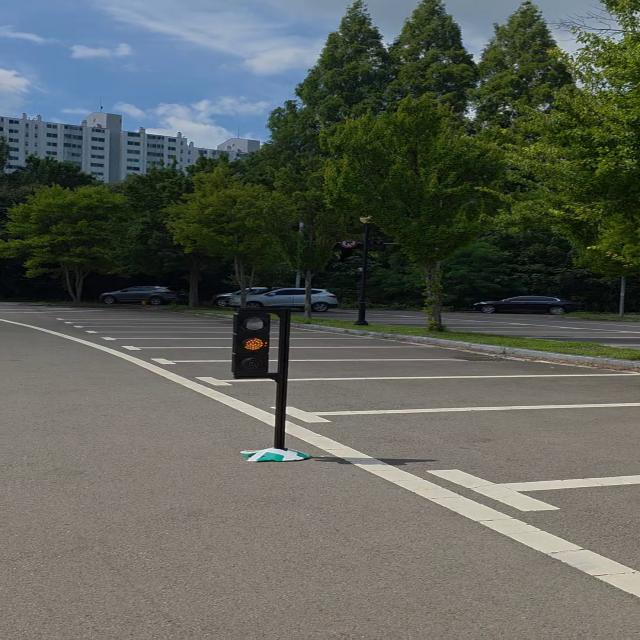yellow: (225, 311, 284, 382)
